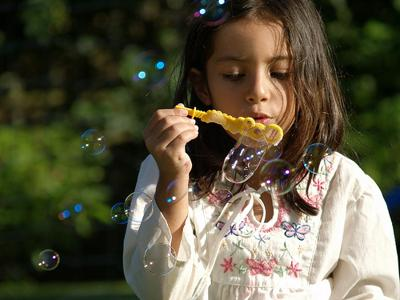person: (122, 1, 400, 300)
